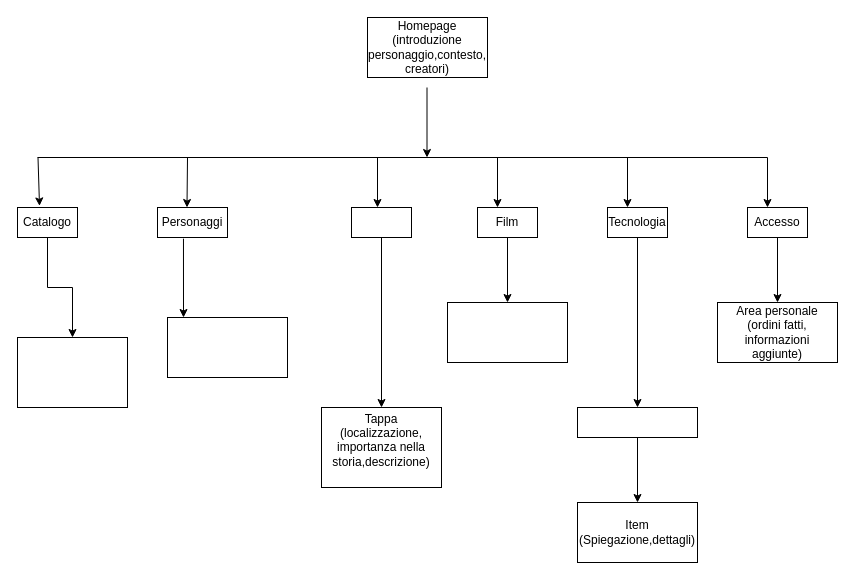
Image size: 855x580. Some labels were removed from this diagram. Each missing label, with the box of its shape:
Item singolo(informazioni ,dettagli): (16, 336, 128, 408)
Luoghi: (350, 206, 412, 238)
Scheda Film(autore, durata,trama,cast): (446, 302, 568, 362)
Scheda personaggio (dati,storia,poteri, abilità): (166, 316, 288, 378)
Selezione: (576, 406, 698, 438)
